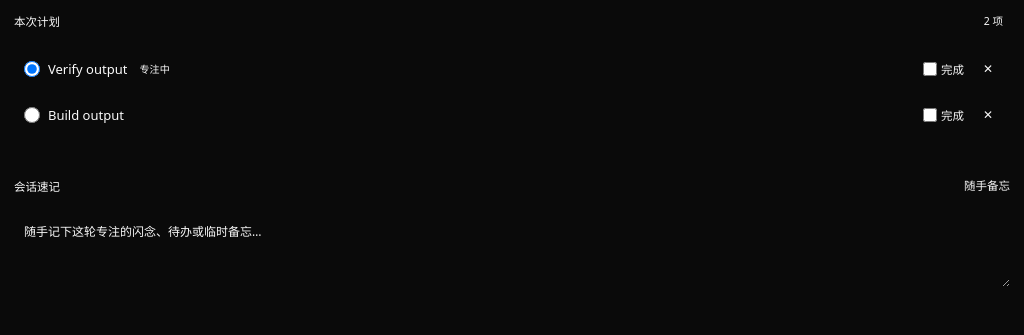
Test: SessionWorkspace › rolls the composer back when the authoritative current-item write fails
Step 1. Click the button with aria-label "Work on Build output" → (86, 114), box [48,106,909,125]
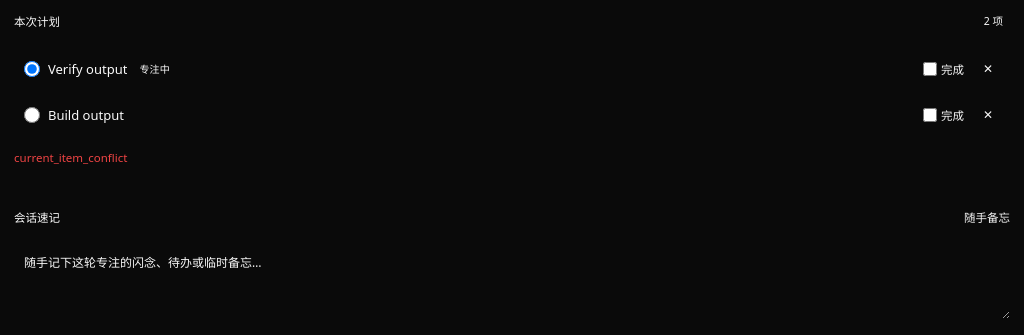
Result: the message reads "current_item_conflict" at [14,150,127,165]
